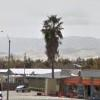Palm tree: (34, 9, 68, 78)
